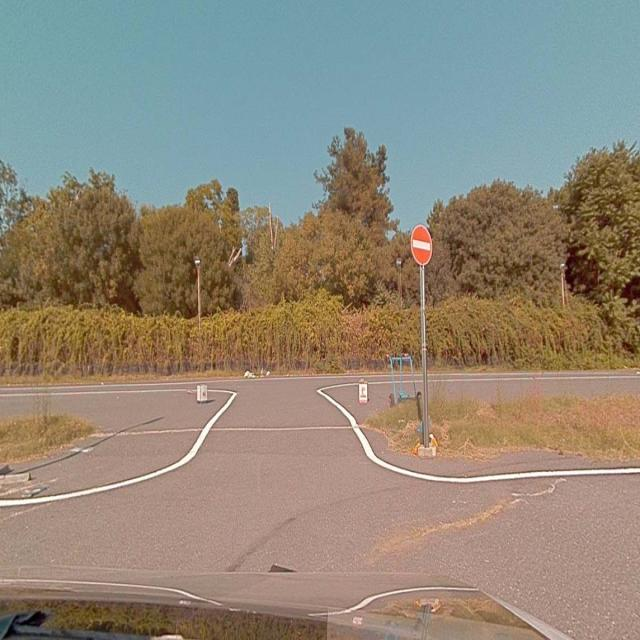girisyok: (411, 226, 430, 265)
